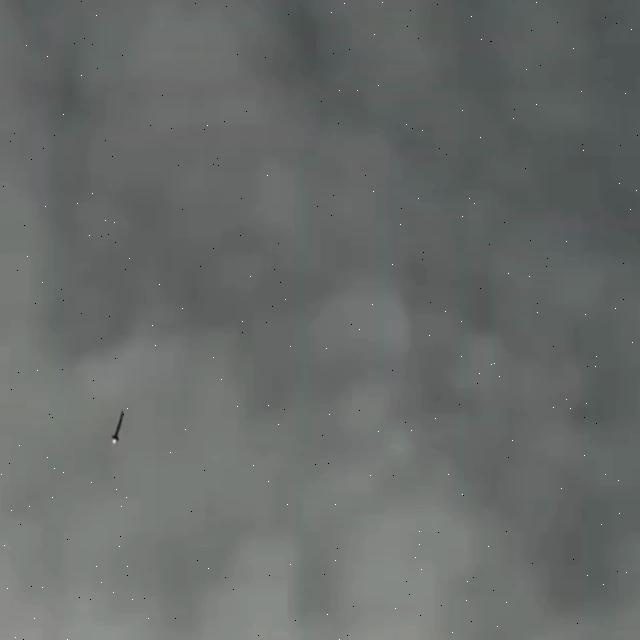rocket: (111, 411, 124, 443)
